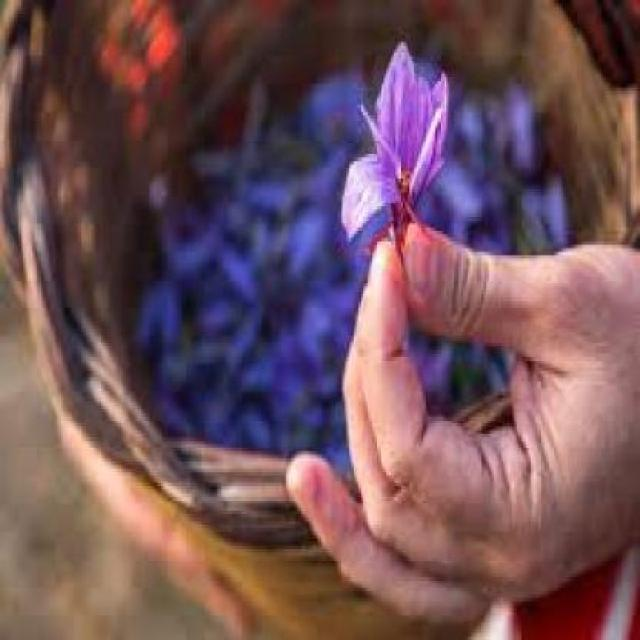saffron open: (341, 41, 449, 239)
